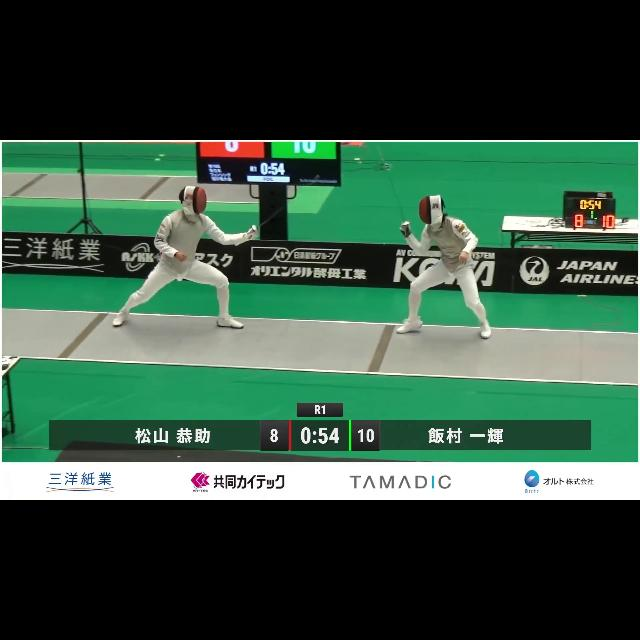blade: (248, 173, 322, 239), (376, 144, 409, 234)
